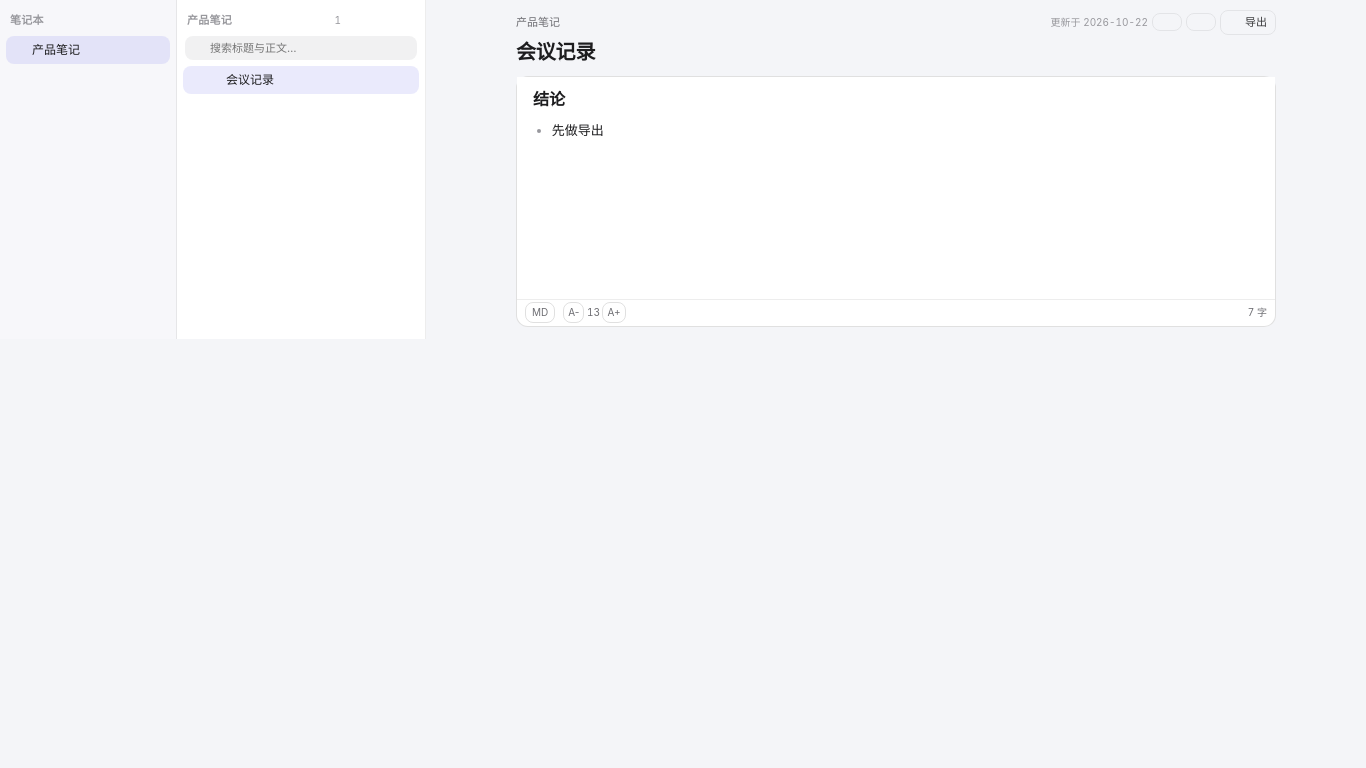
Test case: T50 · 导出与正文字号 › 编辑区顶部有导出入口，点开是三种落点
The image size is (1366, 768).
Click the button with test id "notebook-export": (1248,22) [1220,10,1276,35]
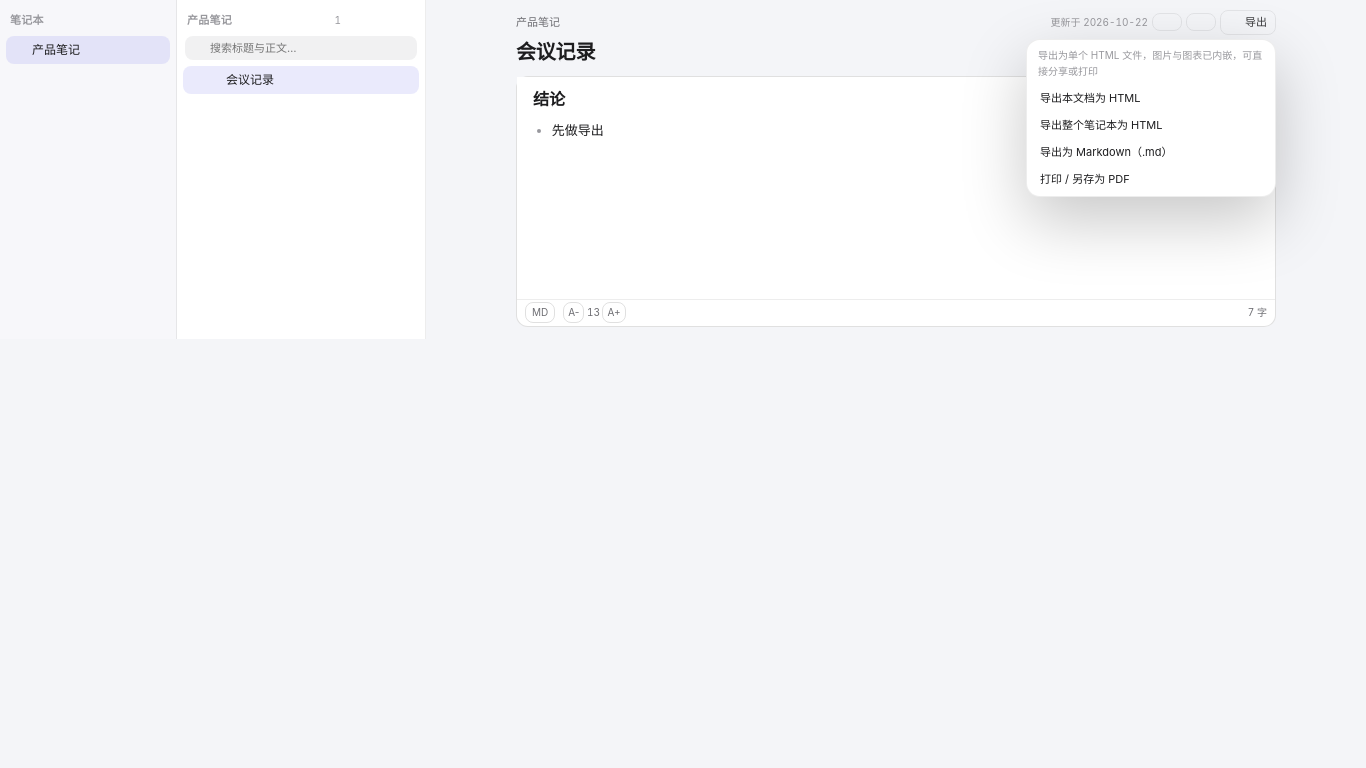
Expected: the menu with test id "notebook-export-menu" is shown, [1026,39,1276,197]
Expected: the menu item with test id "notebook-export-doc" is shown, [1032,84,1270,110]
Expected: the menu item with test id "notebook-export-notebook" is shown, [1032,111,1270,137]
Press the mouse on the element with test id "notebook-export-backdrop": (683,384) [0,0,1365,767]
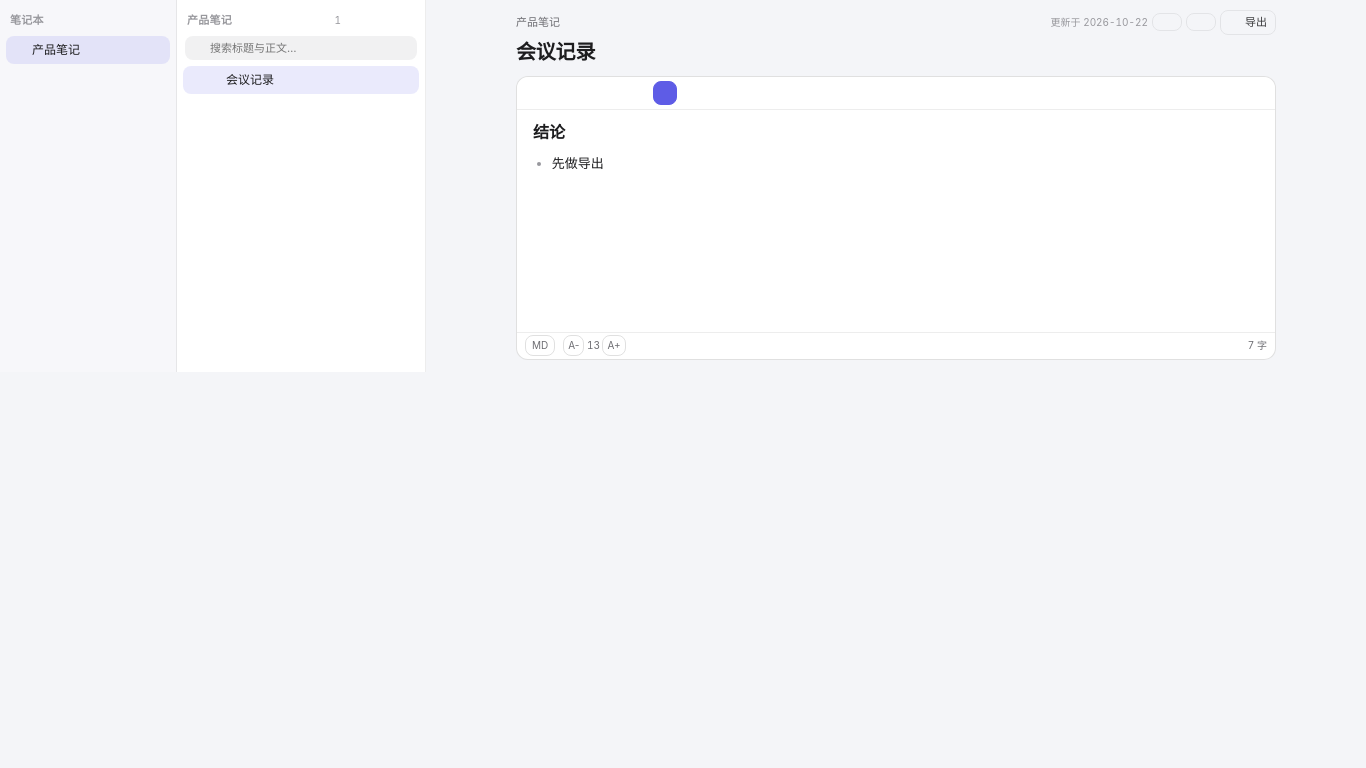
Expected: the menu with test id "notebook-export-menu" is gone
